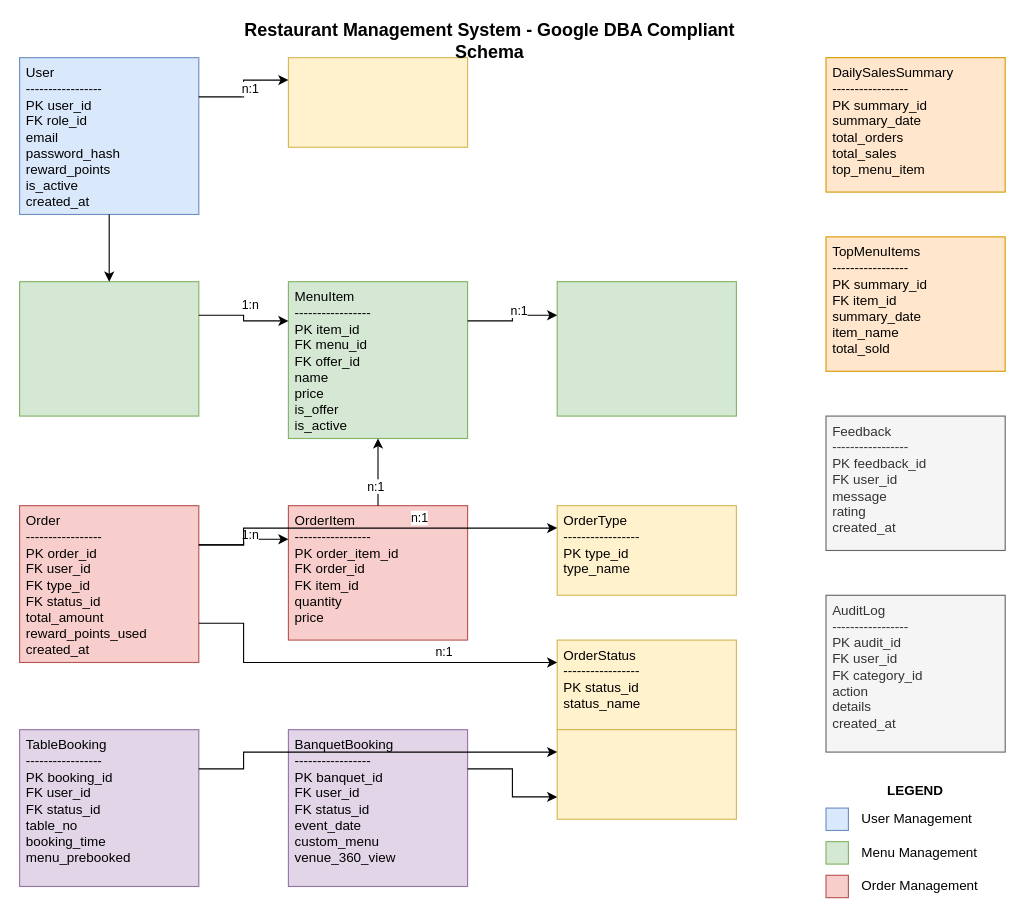
The diagram is 1025 pixels wide and 917 high, and some of its shapes have lost their labels. Each missing label, with the centre of its shape:
BookingStatus ----------------- PK status_id status_name: the point at 646,774
Menu ----------------- PK menu_id title description is_active created_at: the point at 108,348
Offer ----------------- PK offer_id title start_time end_time is_active: the point at 646,348
UserRole ----------------- PK role_id role_name: the point at 377,102
